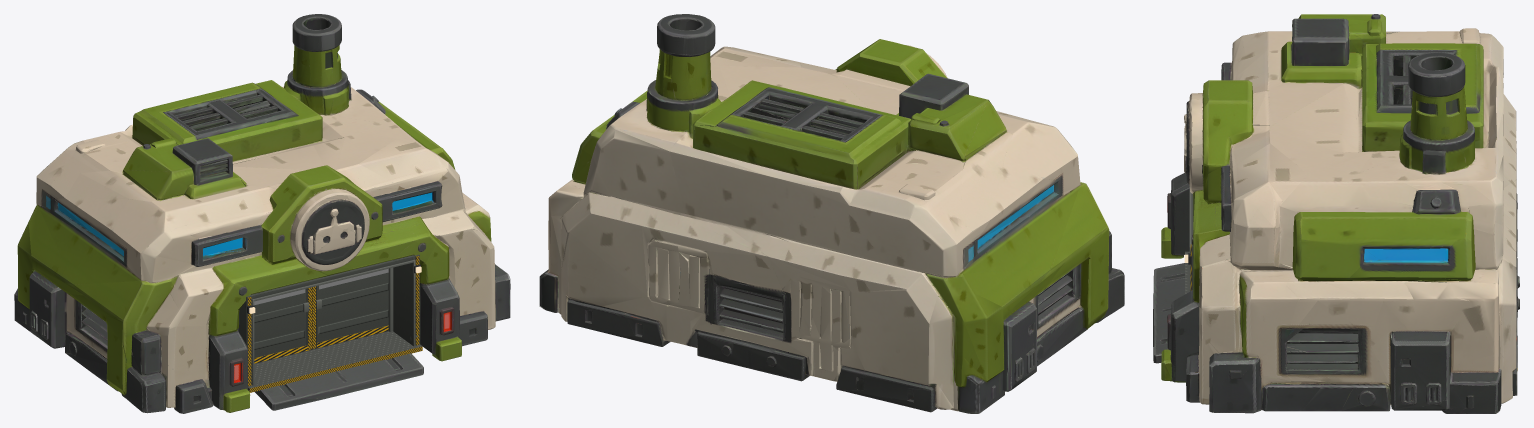
Rendered from robot_factory_Gate.glb.
3 views of the same model, side by side, from view 1: azimuth 30°, elevation 25°; view 2: azimuth 150°, elevation 25°; view 3: azimuth 270°, elevation 25° (orthographic). The views are drawn at different scales.
Parts seen in each view (by area): view 1: robot_factory_Body, gate_hall, gate_door_L, gate_door_R; view 2: robot_factory_Body; view 3: robot_factory_Body, gate_hall.
Boxes of the visible parts, bbox=[...] form: robot_factory_Body: bbox=[14, 14, 510, 413]; gate_hall: bbox=[239, 254, 422, 392]; gate_door_L: bbox=[312, 268, 388, 349]; gate_door_R: bbox=[254, 287, 311, 363]; robot_factory_Body: bbox=[539, 14, 1124, 413]; robot_factory_Body: bbox=[1153, 14, 1519, 413]; gate_hall: bbox=[1185, 188, 1193, 293].
Bounding box in the file's own units: 1.9 × 1.2 × 1.3.
4 materials, 3 textured.
